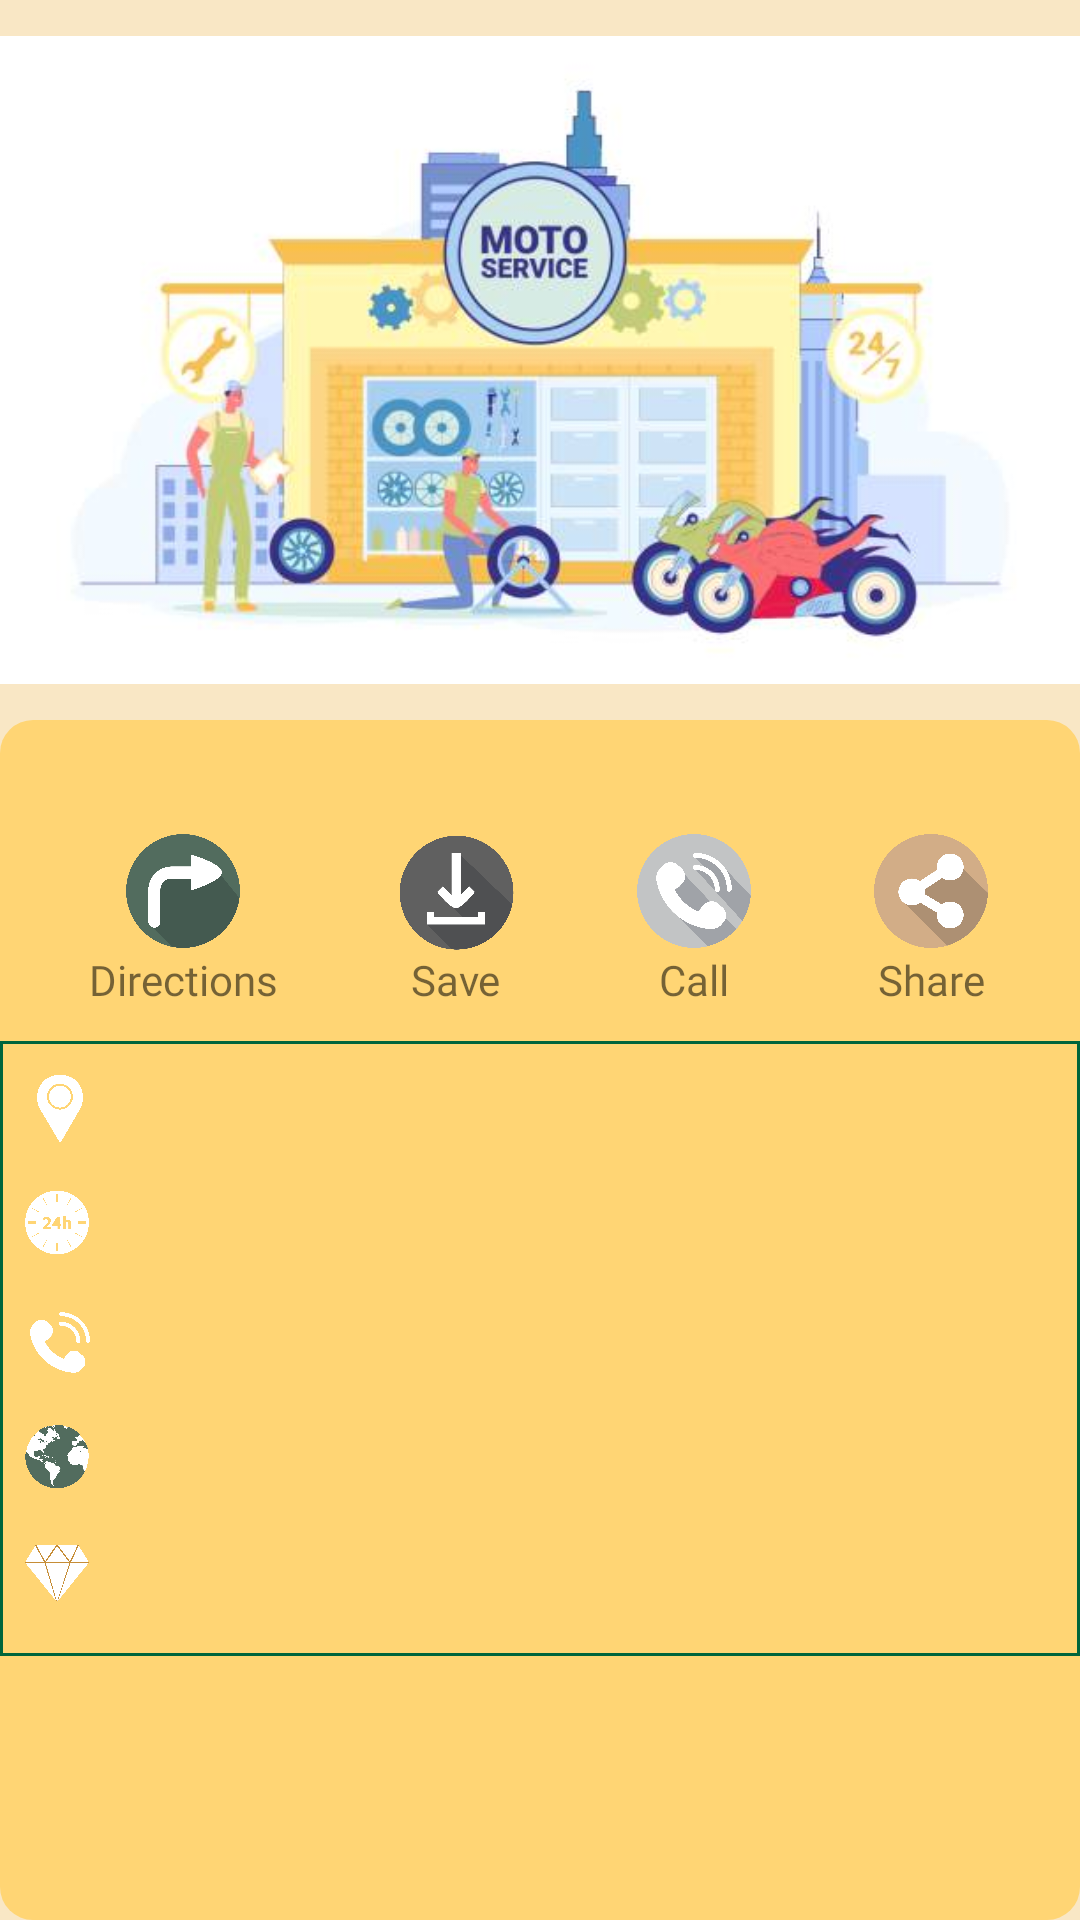

Where icons sit on this 1080px x 1920px app screen, as (left=x1, top=y1, right=x2, bottom=y2):
address: (left=37, top=1075, right=83, bottom=1142)
phonenumber: (left=30, top=1312, right=90, bottom=1373)
time: (left=25, top=1191, right=89, bottom=1254)
website: (left=25, top=1425, right=89, bottom=1488)
